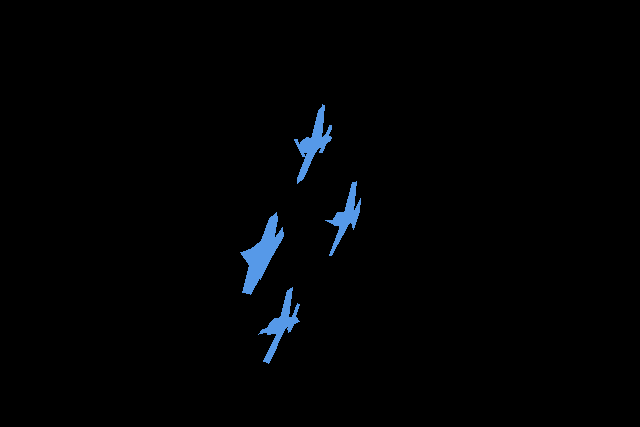Airplane: (240, 212, 284, 295), (258, 287, 299, 363), (294, 104, 331, 184), (325, 181, 361, 256)
